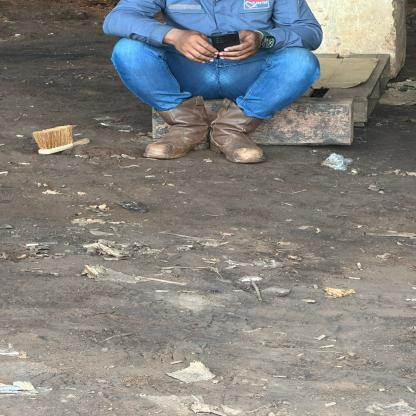bota: (137, 98, 212, 161), (209, 98, 266, 164)
